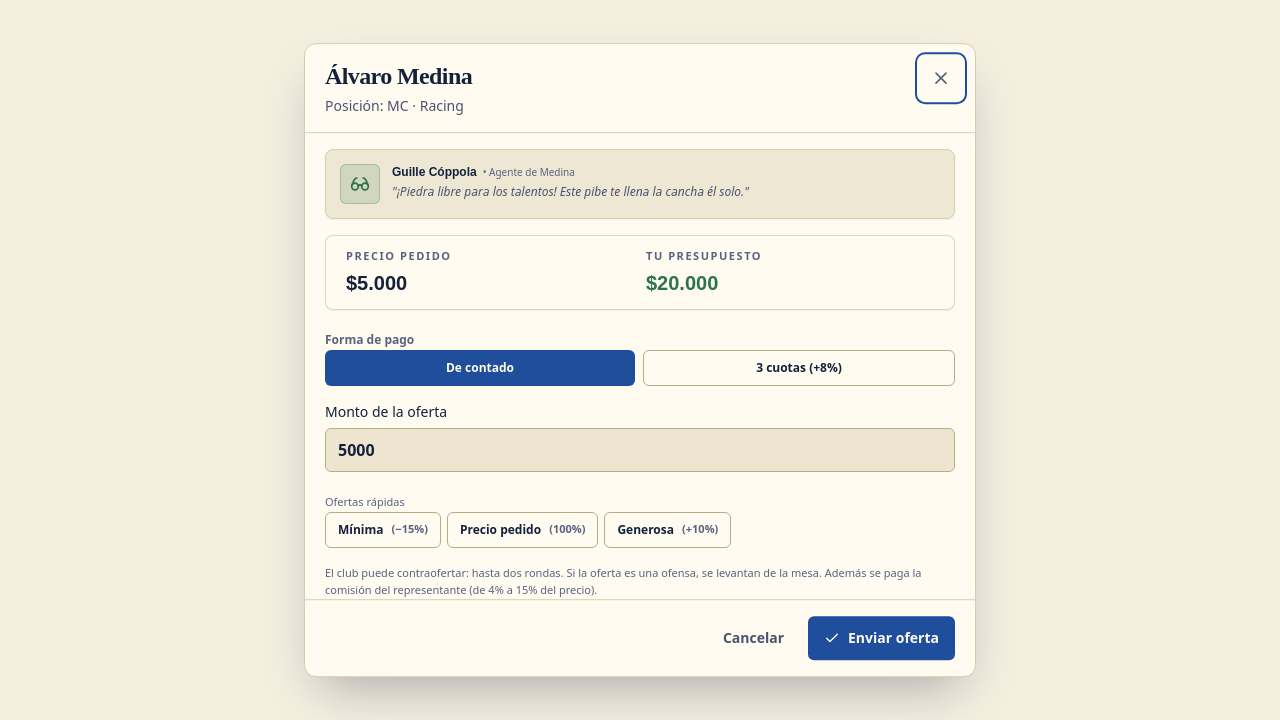
Test: negociación del fichaje › se puede mejorar la oferta una vez más; la contraoferta de la segunda ronda es final y ya no se negocia
This screenshot has width=1280, height=720.
Replace the text in the number field labelled "Monto de la oferta" with "4000" at x=640, y=450, box 325,428 -> 955,472
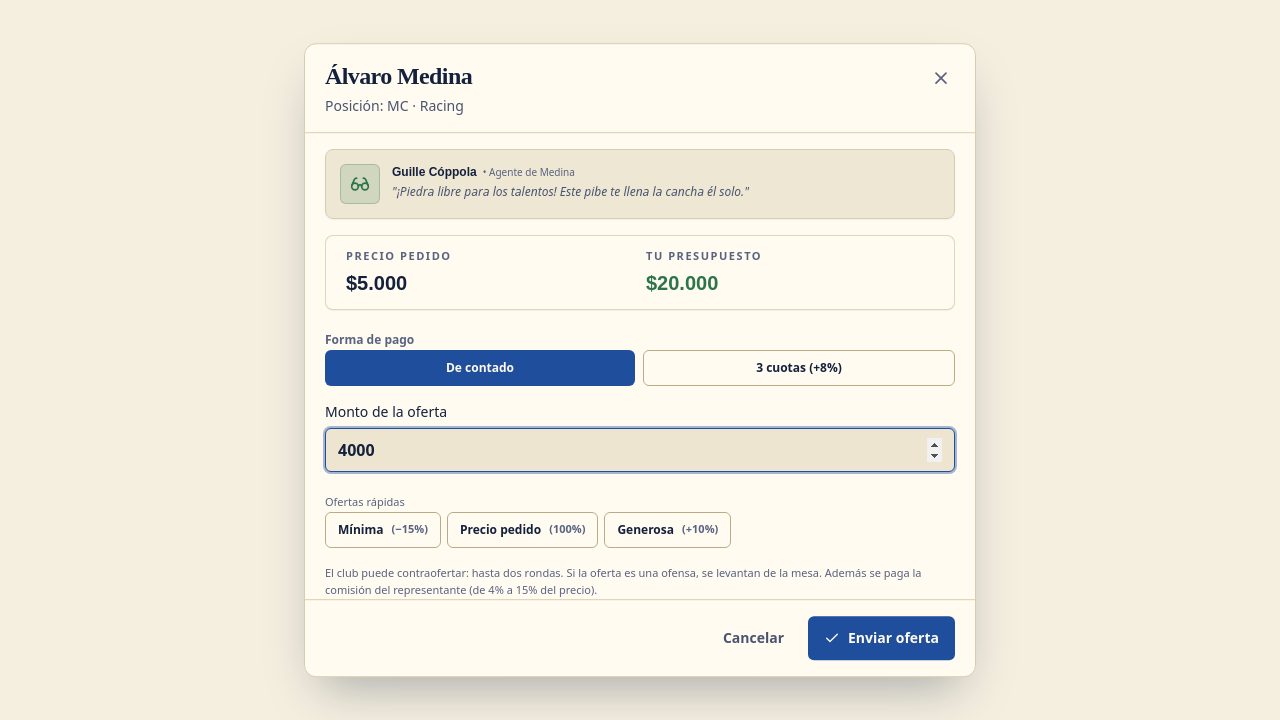
Click the button "Enviar oferta".
click(882, 638)  # box 808,616 -> 955,660
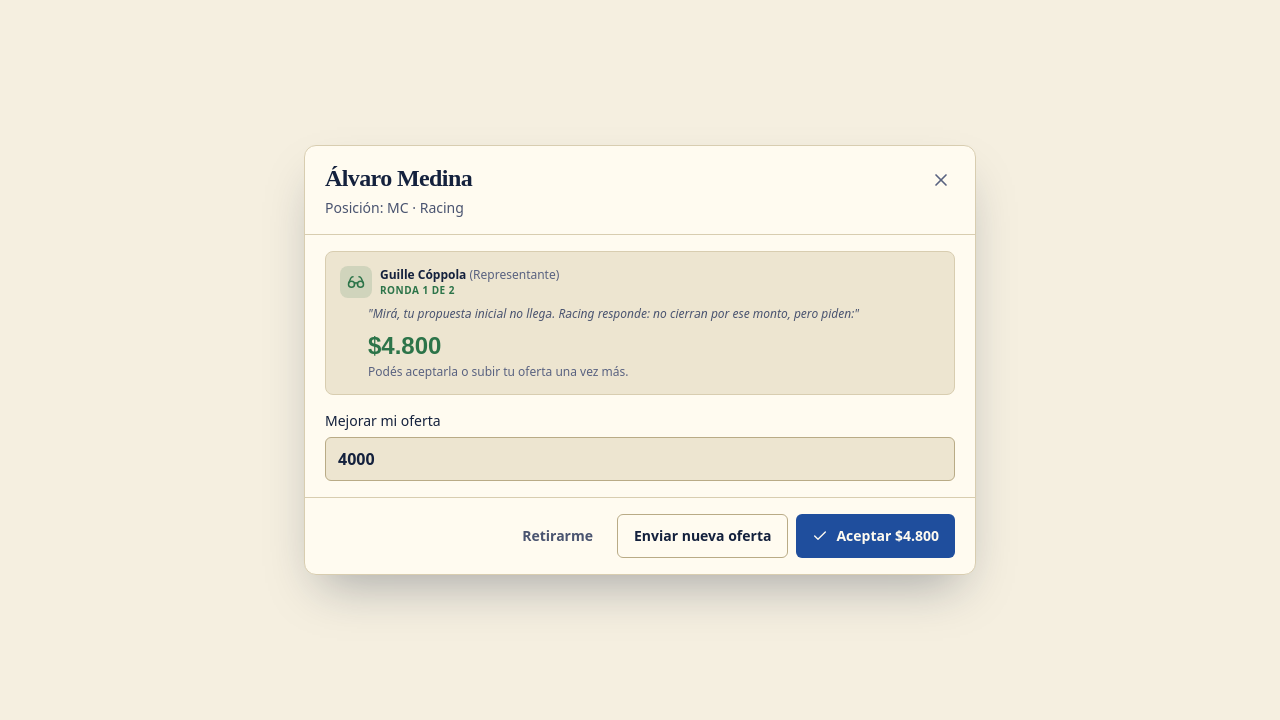
Replace the text in the number field labelled "Mejorar mi oferta" with "4400" at x=640, y=459, box 325,437 -> 955,481
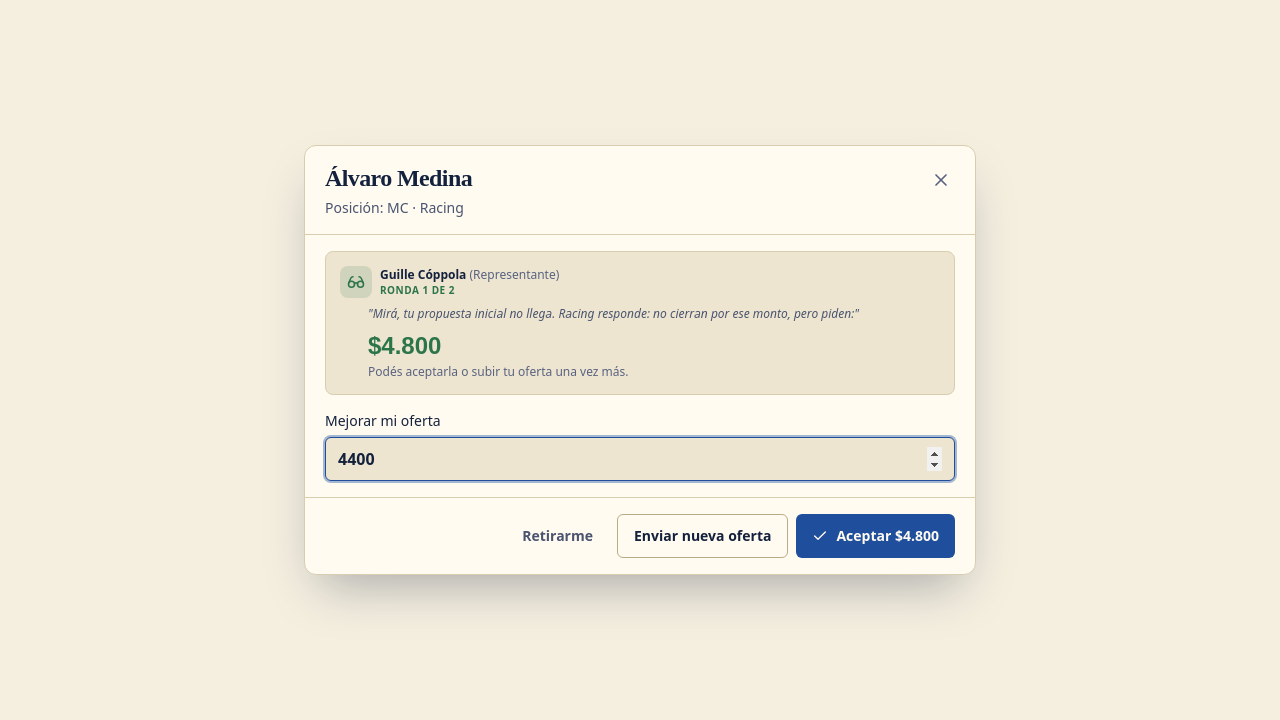
Click the button "Enviar nueva oferta".
click(703, 536)  # box 617,514 -> 788,558
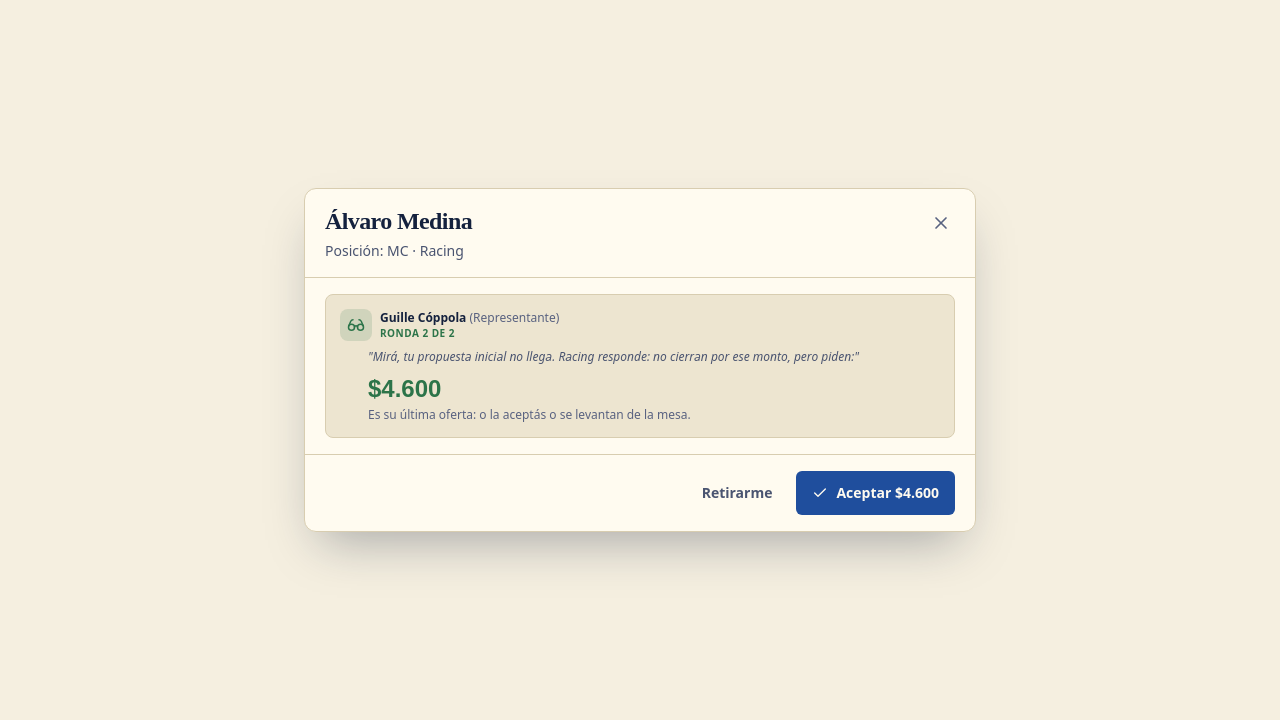
Expected: the text "Ronda 2 de 2" is shown, 380,326 -> 455,340
Expected: the text "Es su última oferta: o la aceptás o se levantan de la mesa." is shown, 368,406 -> 691,423
Expected: the label labelled "Mejorar mi oferta" is gone
